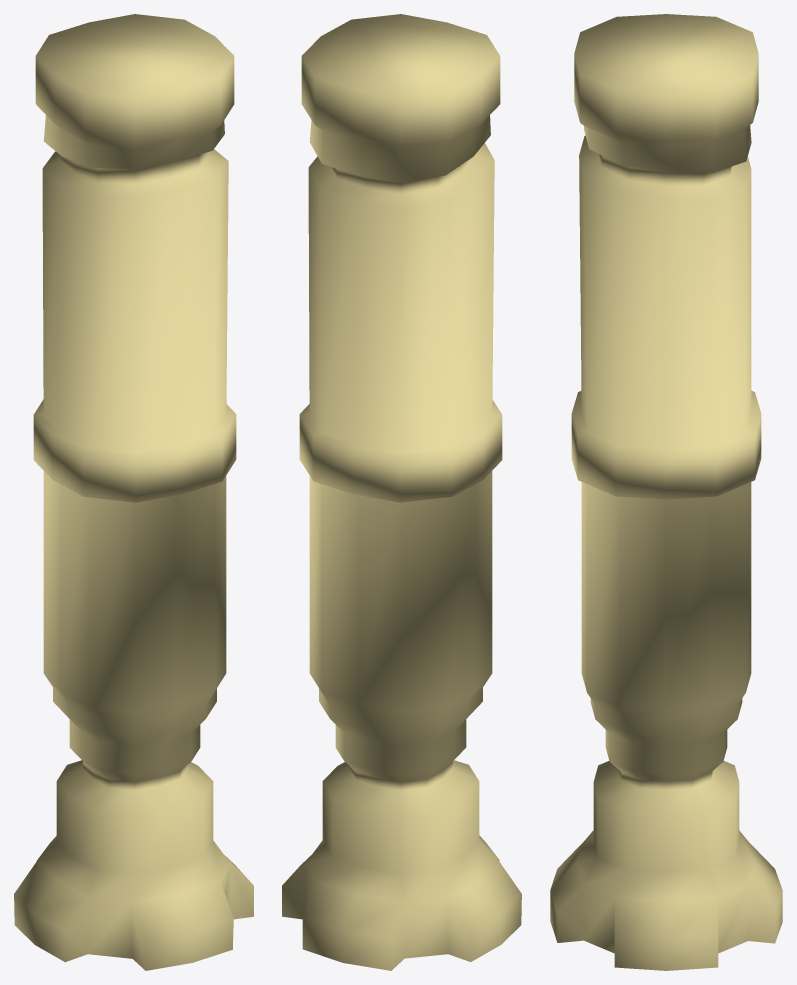
The model's file is VasColumn.obj.
3 views of the same model, side by side, from view 1: azimuth 30°, elevation 25°; view 2: azimuth 150°, elevation 25°; view 3: azimuth 270°, elevation 25° (orthographic).
Parts seen in each view (by area): view 1: Cylinder003; view 2: Cylinder003; view 3: Cylinder003.
Boxes of the visible parts, bbox=[...] form: Cylinder003: bbox=[14, 14, 253, 970]; Cylinder003: bbox=[282, 14, 521, 970]; Cylinder003: bbox=[550, 14, 782, 970].
Bounding box in the file's own units: 17.05 × 70.23 × 17.05.
